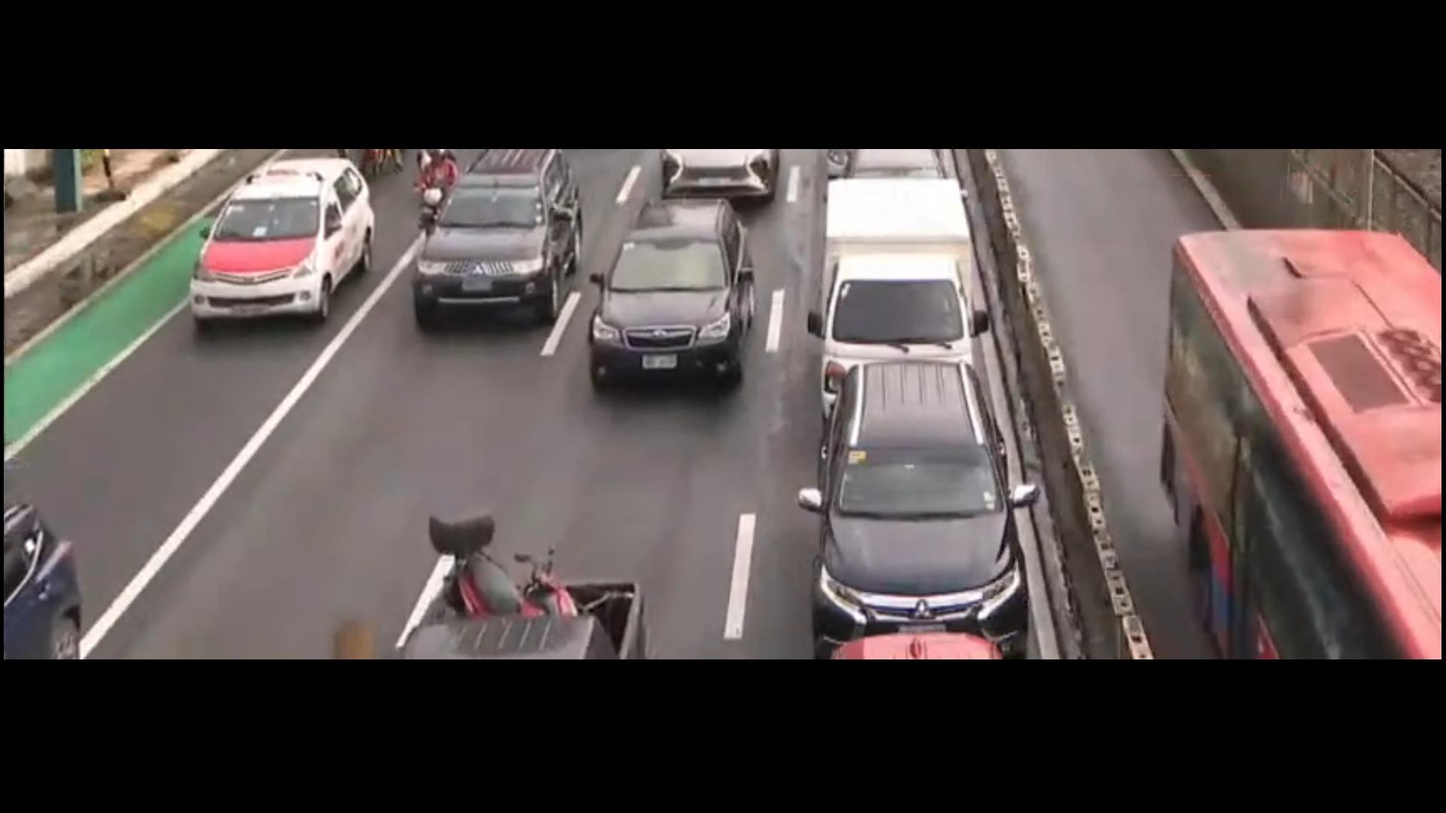Bus: (1145, 218, 1437, 651)
Motorcycle: (412, 151, 459, 237)
Multicab: (817, 181, 994, 435)
SUV: (823, 367, 1005, 640), (578, 199, 753, 393), (409, 149, 574, 326)
Sedan: (185, 162, 369, 331)
